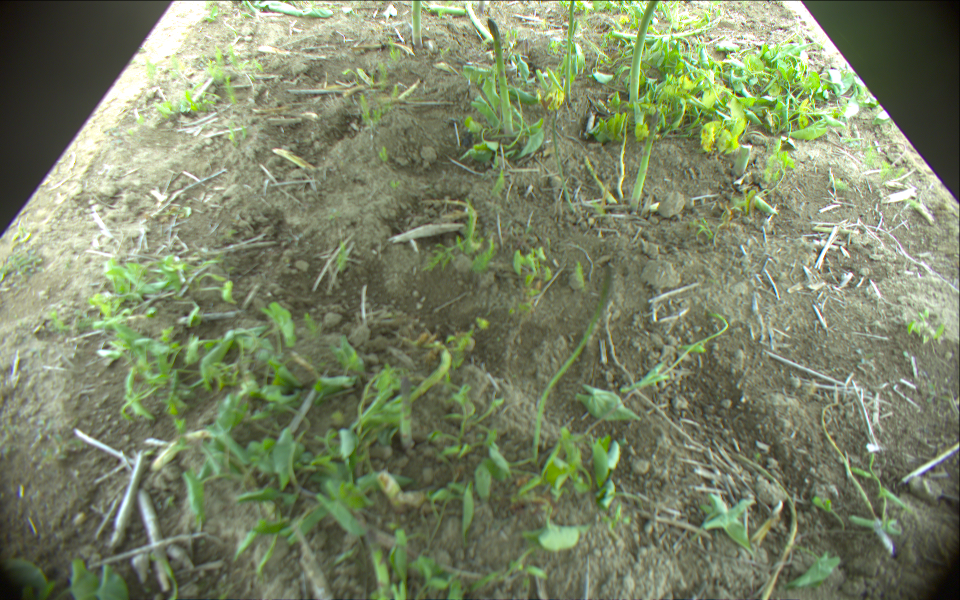aspa: (526, 265, 612, 466), (389, 347, 452, 412), (630, 110, 663, 208), (629, 1, 659, 106), (487, 16, 513, 137), (610, 18, 721, 42), (581, 151, 617, 206), (396, 372, 415, 451), (467, 1, 494, 45), (565, 1, 576, 100), (419, 1, 467, 15), (733, 143, 752, 176), (413, 1, 424, 47)
